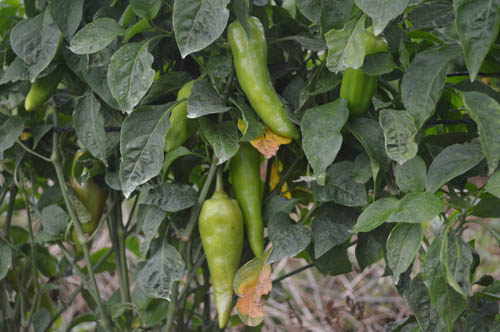ChiliPepper: (228, 20, 294, 138), (204, 201, 244, 326), (228, 139, 267, 255), (337, 30, 384, 111), (69, 148, 107, 246), (160, 81, 205, 151)
